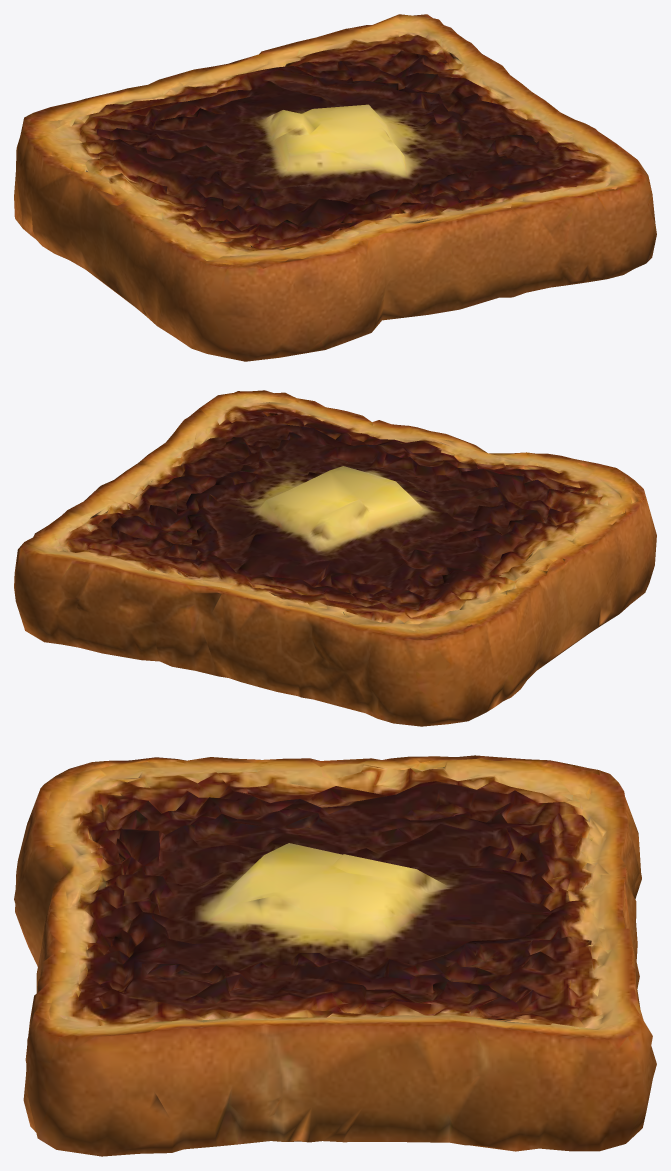
File: toast-phone.glb
3 renders of one model, top to bottom at view 1: azimuth 30°, elevation 25°; view 2: azimuth 150°, elevation 25°; view 3: azimuth 270°, elevation 25°, orthographic. The views are drawn at different scales.
Parts seen in each view (by area): view 1: Model; view 2: Model; view 3: Model.
Part boxes in pixels (x1=…): Model: x1=14, y1=14, x2=656, y2=361; Model: x1=14, y1=390, x2=656, y2=726; Model: x1=14, y1=755, x2=656, y2=1156.
Size of the model in its own units: 1.9 by 0.4419 by 1.75.
1 material, 1 textured.
